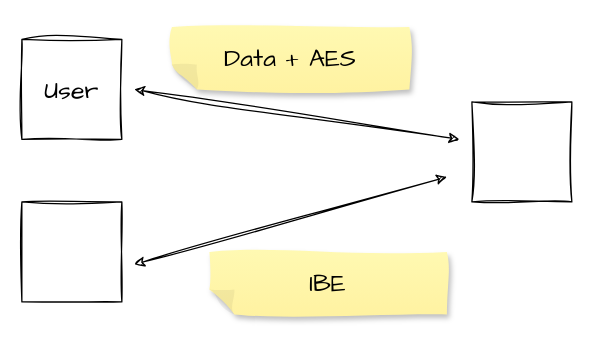
Some shapes in this 594 by 344 pixel diagram are drawn without their labels. The centre of each missing label's shape, as x and y in pixels:
Cloud: (x=521, y=151)
Related-Party: (x=71, y=251)
